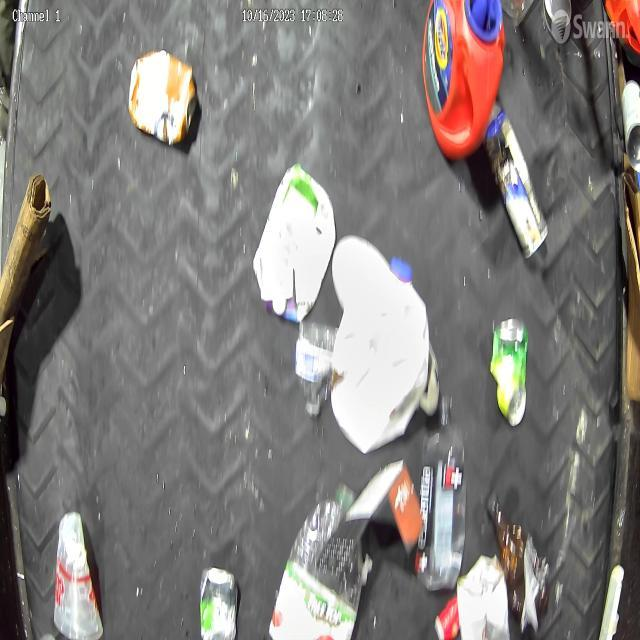can: (489, 308, 526, 421)
milk_jug: (332, 243, 428, 454)
non_white_jug: (421, 0, 500, 149)
plastic_bottle: (271, 478, 359, 638), (426, 395, 462, 570), (298, 302, 339, 426)
